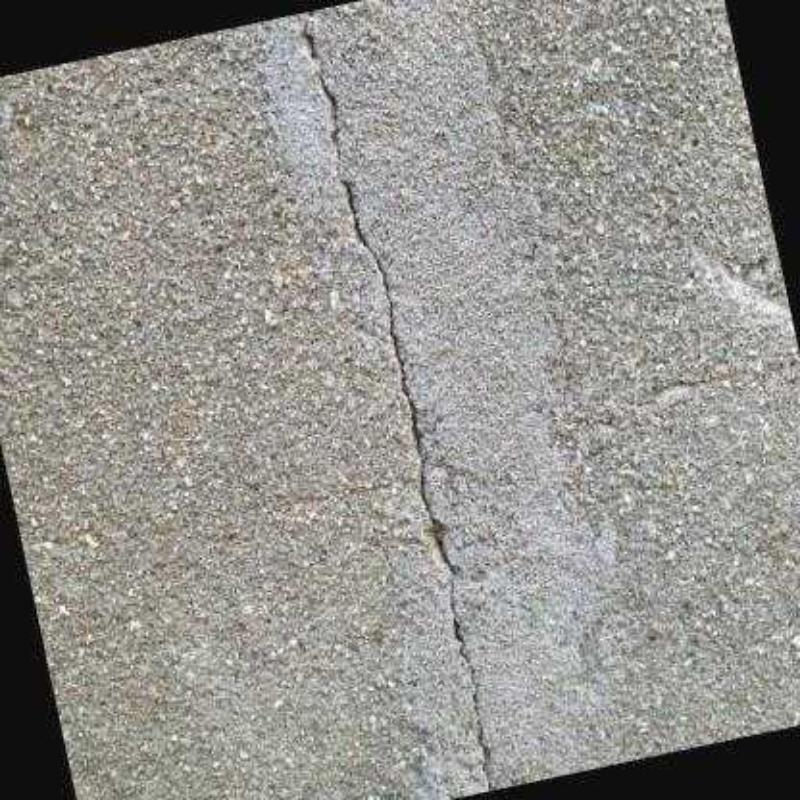crack: (303, 10, 494, 790)
